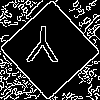Y: (25, 25, 60, 72)
